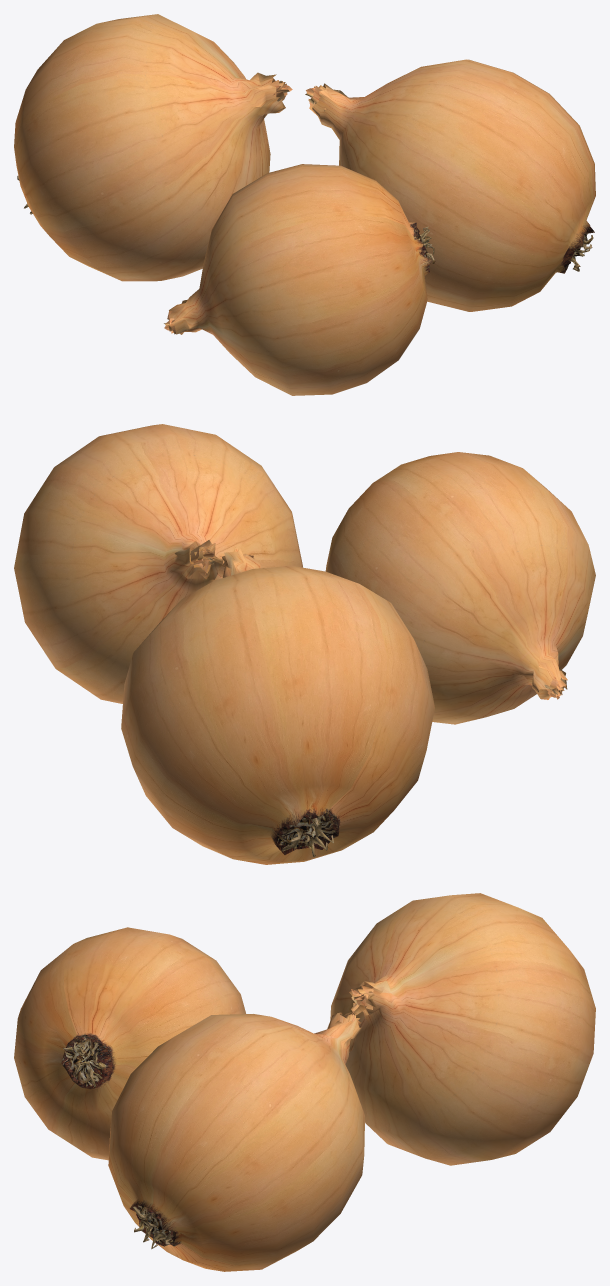
File: Piyoz.fbx
3 views of the same model, one above another, from view 1: azimuth 30°, elevation 25°; view 2: azimuth 150°, elevation 25°; view 3: azimuth 270°, elevation 25° (orthographic). The views are drawn at different scales.
Visible parts, largest first — view 1: Onion_standart; view 2: Onion_standart; view 3: Onion_standart.
Part boxes in pixels (x1=…): Onion_standart: x1=14, y1=14, x2=595, y2=395; Onion_standart: x1=14, y1=424, x2=595, y2=864; Onion_standart: x1=14, y1=893, x2=595, y2=1271.
Bounding box in the file's own units: 516 × 275 × 586.
1 material, 1 textured.
